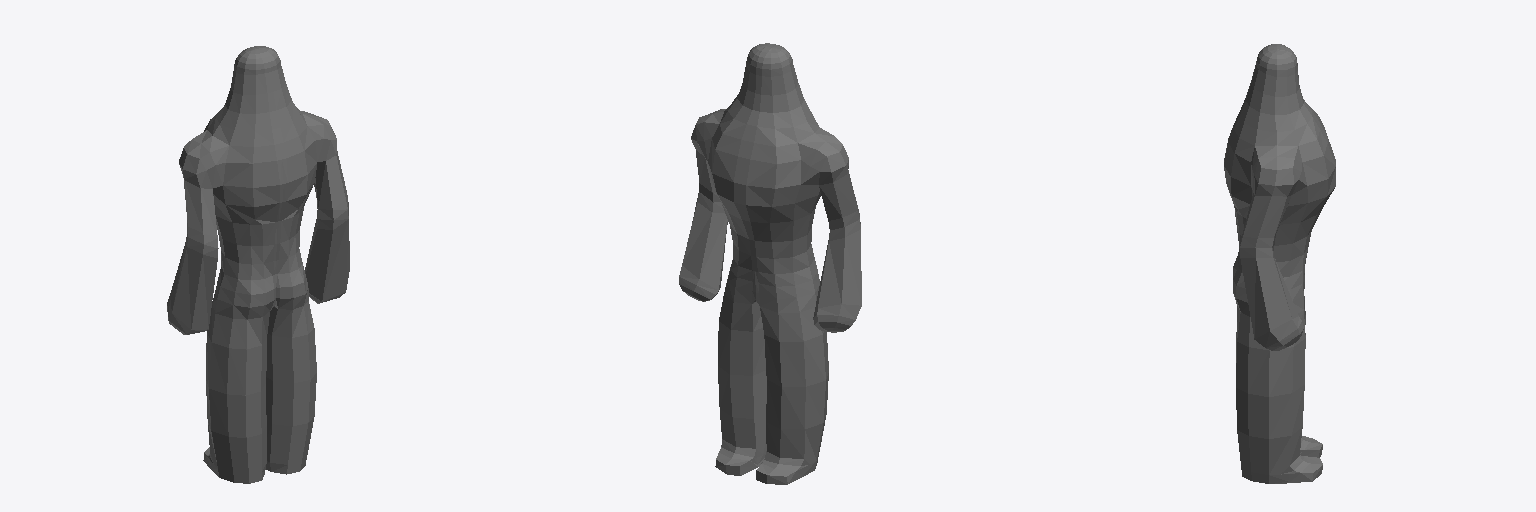
File: MOD_GodStatueLow.obj
3 views of the same model, side by side, from view 1: azimuth 30°, elevation 25°; view 2: azimuth 150°, elevation 25°; view 3: azimuth 270°, elevation 25° (orthographic).
Parts seen in each view (by area): view 1: pasted__pasted__pasted__pasted__pasted__pasted__pCylinder28; view 2: pasted__pasted__pasted__pasted__pasted__pasted__pCylinder28; view 3: pasted__pasted__pasted__pasted__pasted__pasted__pCylinder28.
Boxes of the visible parts, x1,y1,x2,y2 form: pasted__pasted__pasted__pasted__pasted__pasted__pCylinder28: [167, 46, 349, 483]; pasted__pasted__pasted__pasted__pasted__pasted__pCylinder28: [679, 43, 861, 484]; pasted__pasted__pasted__pasted__pasted__pasted__pCylinder28: [1224, 44, 1335, 483].
Bounding box in the file's own units: 271 × 606 × 149.